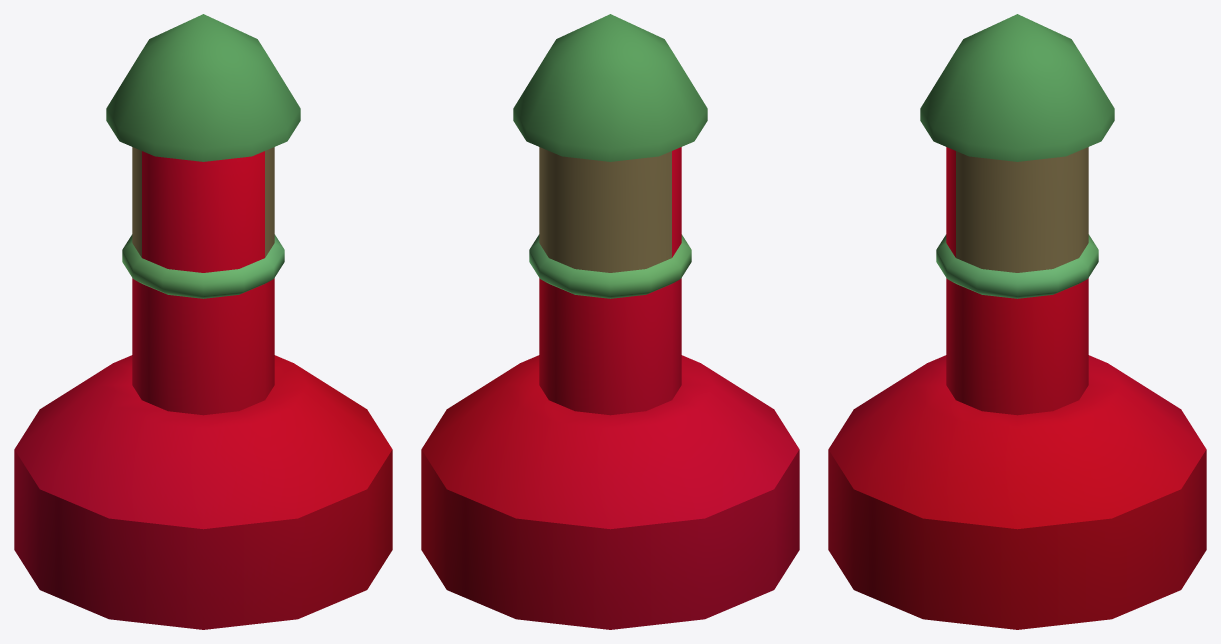
Rendered from Buoy_Cylinder_C.fbx.
3 renders of one model, left to right at view 1: azimuth 30°, elevation 25°; view 2: azimuth 150°, elevation 25°; view 3: azimuth 270°, elevation 25°, orthographic.
Parts seen in each view (by area): view 1: Buoy_Cylinder_C; view 2: Buoy_Cylinder_C; view 3: Buoy_Cylinder_C.
Boxes of the visible parts, x1,y1,x2,y2 form: Buoy_Cylinder_C: (14,14,392,629); Buoy_Cylinder_C: (421,14,799,629); Buoy_Cylinder_C: (828,14,1206,629).
Bounding box in the file's own units: 62.22 × 97.34 × 62.22.
